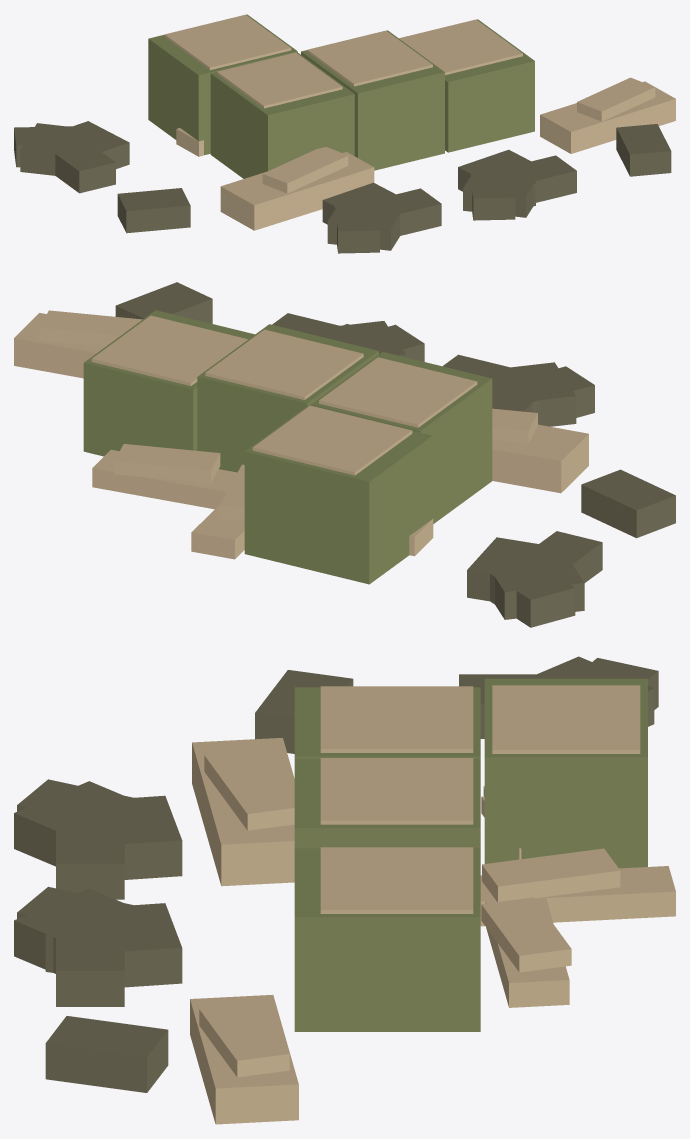
The model's file is SM_HescoRemate_v3_RemateSacos_e2_MuyDanado_LOD1.fbx.
The picture shows the model from 3 angles, top to bottom: view 1: azimuth 30°, elevation 25°; view 2: azimuth 150°, elevation 25°; view 3: azimuth 270°, elevation 25°; orthographic projection. The views are drawn at different scales.
Parts seen in each view (by area): view 1: SM_hesco_piezas_v34_LOD1; view 2: SM_hesco_piezas_v34_LOD1; view 3: SM_hesco_piezas_v34_LOD1.
Part boxes in pixels (x1=…): SM_hesco_piezas_v34_LOD1: x1=14, y1=14, x2=675, y2=253; SM_hesco_piezas_v34_LOD1: x1=14, y1=282, x2=675, y2=627; SM_hesco_piezas_v34_LOD1: x1=14, y1=656, x2=675, y2=1124.
Size of the model in its own units: 6.71 by 0.988 by 4.34.
